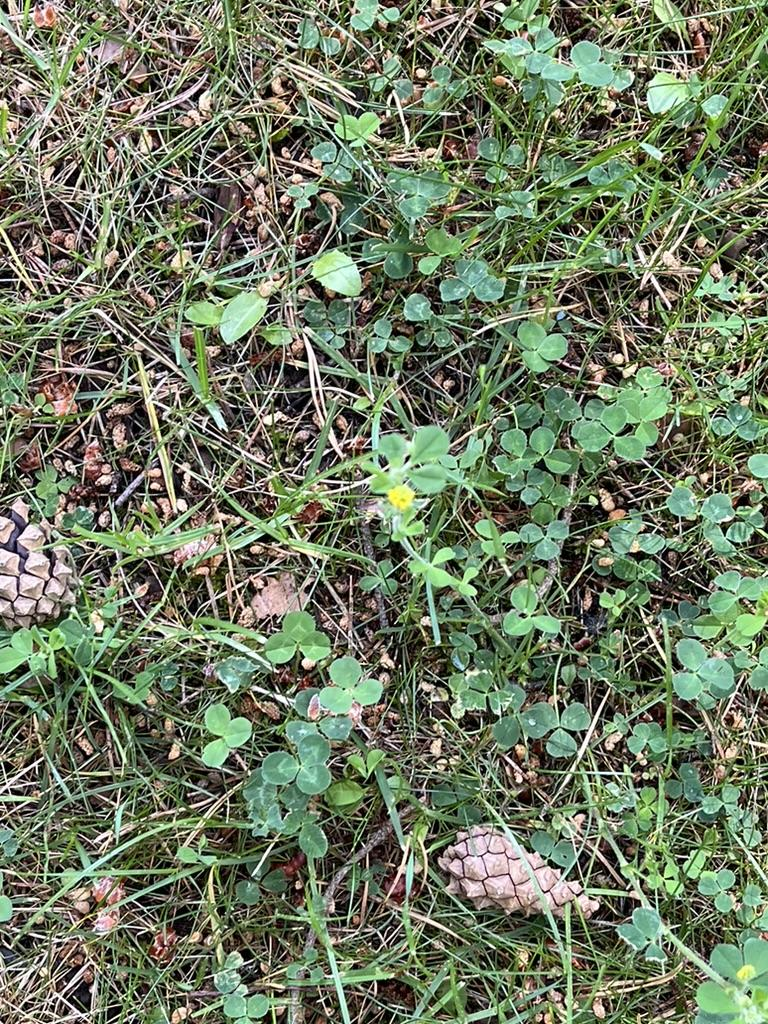pine: (428, 800, 614, 938), (0, 465, 86, 633)
